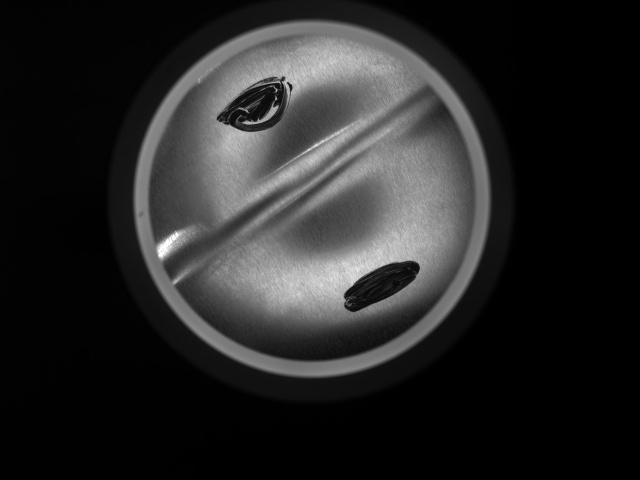zang_wu: (212, 72, 296, 134), (341, 258, 422, 313)
zhe_zhou: (192, 65, 436, 326)
